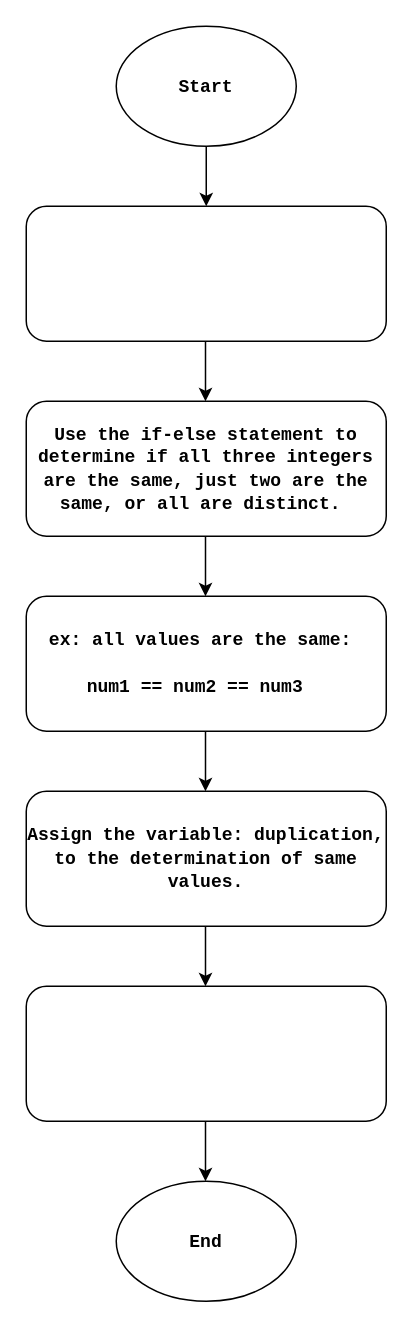
Image size: 413x1328. Some labels were removed from this diagram. The shapes that lost their labels are listed below. From the top down, each one's centre as x and y in pixels, then its label:
At [205,273]: "Ask the user to input three integer values. Variables: num1, num2, num3".
At [205,1053]: "Print the assigned duplication number.".
